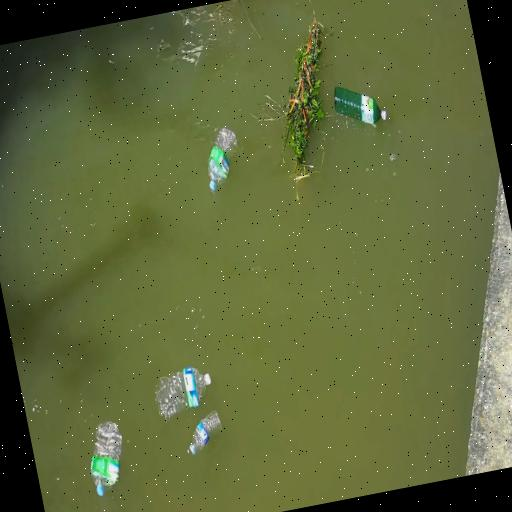plastic: (79, 414, 135, 504), (149, 354, 218, 418), (196, 122, 248, 196), (333, 74, 390, 140), (183, 412, 232, 457)
twig: (254, 21, 353, 170)
